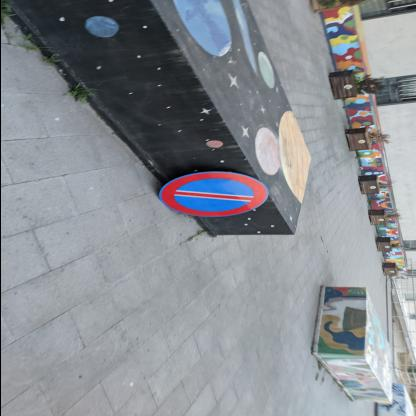No Waiting: (159, 172, 269, 218)
